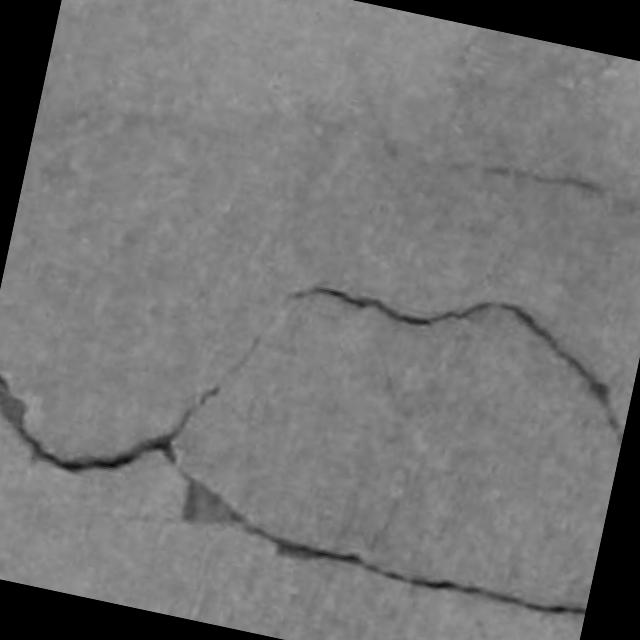crack: (181, 471, 586, 615), (288, 284, 623, 445), (0, 331, 263, 473), (0, 375, 189, 472), (450, 159, 623, 196), (482, 163, 609, 195)
